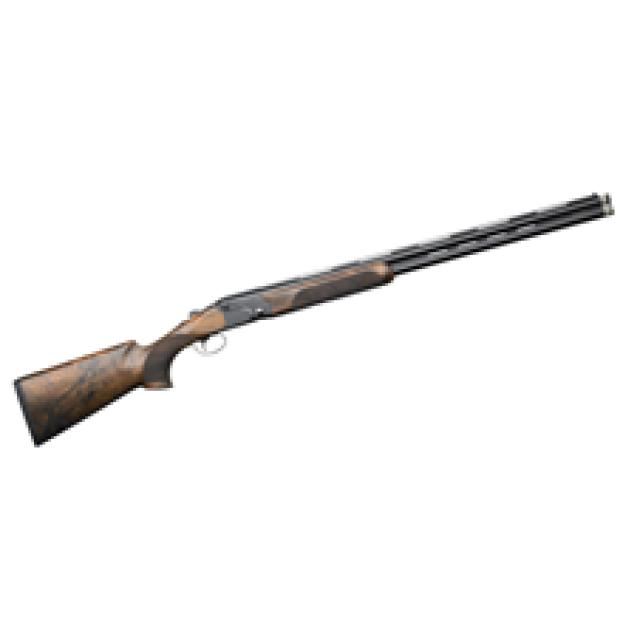rifle: (16, 182, 622, 455)
